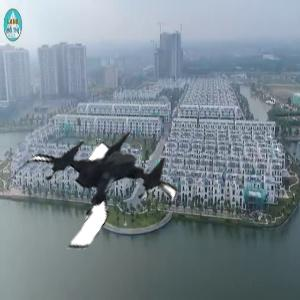drone: (15, 112, 175, 272)
